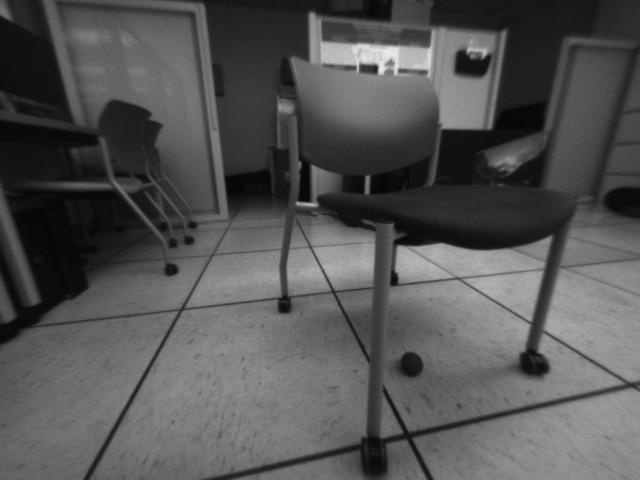dogtoy: (391, 346, 433, 383)
